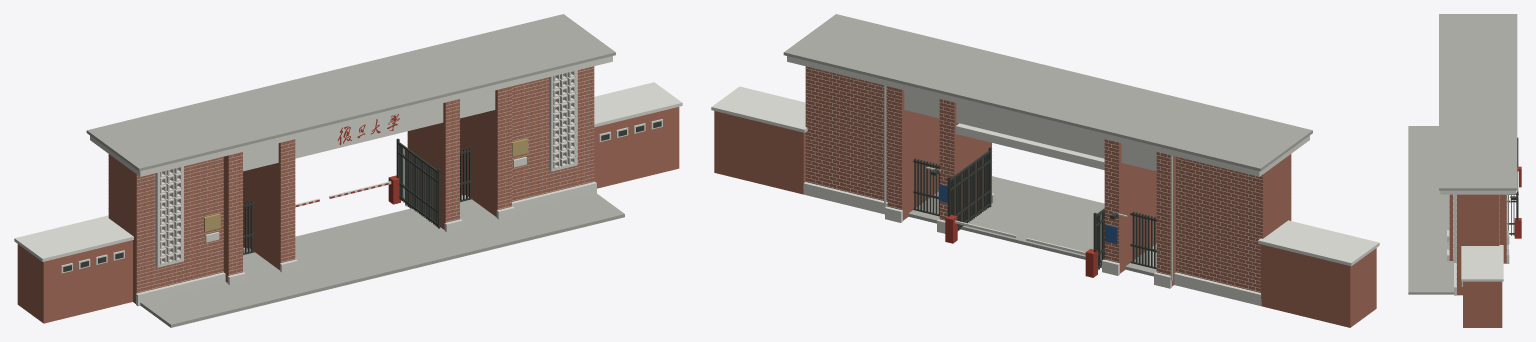
3 views of the same model, side by side, from view 1: azimuth 30°, elevation 25°; view 2: azimuth 150°, elevation 25°; view 3: azimuth 270°, elevation 25° (orthographic). The views are drawn at different scales.
Visible parts, largest first — view 1: 复旦正门 · Gate grey threshold.001, 复旦正门 · Gate warm red brick.001, 复旦正门 · Gate white concrete.001, 复旦正门 · Gate pale mortar.001, 复旦正门 · Gate black iron.001, 复旦正门 · Gate brass plaques.001; view 2: 复旦正门 · Gate warm red brick.001, 复旦正门 · Gate grey threshold.001, 复旦正门 · Gate white concrete.001, 复旦正门 · Gate pale mortar.001, 复旦正门 · Gate black iron.001, 复旦正门 · Gate red lettering.001; view 3: 复旦正门 · Gate grey threshold.001, 复旦正门 · Gate warm red brick.001, 复旦正门 · Gate white concrete.001, 复旦正门 · Gate black iron.001, 复旦正门 · Gate red lettering.001, 复旦正门 · Gate pale mortar.001.
Boxes of the visible parts, x1,y1,x2,y2 form: 复旦正门 · Gate grey threshold.001: (86,14,624,327); 复旦正门 · Gate warm red brick.001: (17,66,679,323); 复旦正门 · Gate white concrete.001: (14,56,682,306); 复旦正门 · Gate pale mortar.001: (108,67,594,292); 复旦正门 · Gate black iron.001: (63,121,661,271); 复旦正门 · Gate brass plaques.001: (204,138,528,231); 复旦正门 · Gate warm red brick.001: (714,66,1376,327); 复旦正门 · Gate grey threshold.001: (783,14,1312,276); 复旦正门 · Gate white concrete.001: (711,56,1379,306); 复旦正门 · Gate pale mortar.001: (805,67,1262,292); 复旦正门 · Gate black iron.001: (913,147,1156,270); 复旦正门 · Gate red lettering.001: (945,215,1097,277); 复旦正门 · Gate grey threshold.001: (1408,14,1517,294); 复旦正门 · Gate warm red brick.001: (1449,194,1506,327); 复旦正门 · Gate white concrete.001: (1440,171,1518,295); 复旦正门 · Gate black iron.001: (1461,137,1518,284); 复旦正门 · Gate red lettering.001: (1514,166,1521,238); 复旦正门 · Gate pale mortar.001: (1449,195,1506,285).
Size of the model in its own units: 38.05 by 8.37 by 7.79.
